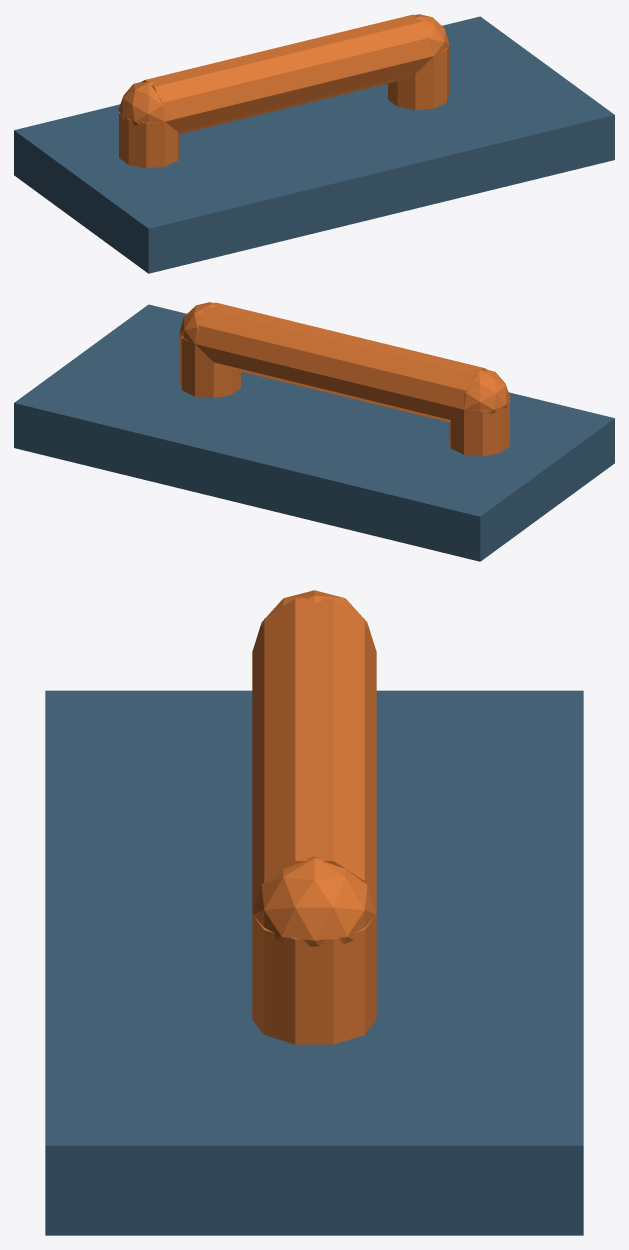
Rendered from 37_L69_CondensateDrainAssembly.fbx.
3 renders of one model, top to bottom at view 1: azimuth 30°, elevation 25°; view 2: azimuth 150°, elevation 25°; view 3: azimuth 270°, elevation 25°, orthographic. The views are drawn at different scales.
Visible parts, largest first — view 1: CondensateDrainAssembly; view 2: CondensateDrainAssembly; view 3: CondensateDrainAssembly.
Part boxes in pixels (x1,y1,x2,y2): CondensateDrainAssembly: (14,14,614,273); CondensateDrainAssembly: (14,302,614,561); CondensateDrainAssembly: (45,590,583,1235).
Bounding box in the file's own units: 130 × 37.5 × 65.
